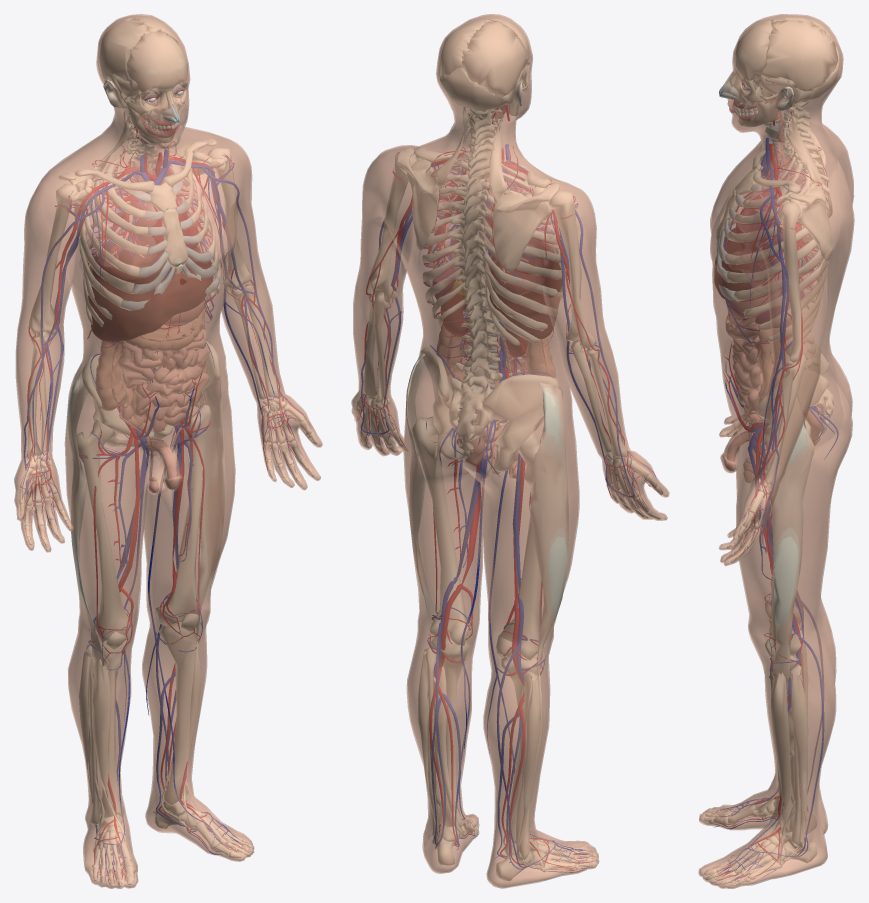
The model's file is m-body.glb.
The picture shows the model from 3 angles, left to right: view 1: azimuth 30°, elevation 25°; view 2: azimuth 150°, elevation 25°; view 3: azimuth 270°, elevation 25°; orthographic projection. The views are drawn at different scales.
Visible parts, largest first — view 1: skin, bone, organ, vein, artery, glass, heart; view 2: skin, bone, vein, artery, organ, glass; view 3: skin, bone, organ, vein, artery, glass, heart.
Part boxes in pixels (x1=…): skin: x1=14, y1=14, x2=322, y2=888; bone: x1=19, y1=17, x2=316, y2=886; organ: x1=88, y1=79, x2=212, y2=492; vein: x1=22, y1=150, x2=310, y2=882; artery: x1=23, y1=126, x2=308, y2=881; glass: x1=80, y1=149, x2=221, y2=413; heart: x1=135, y1=203, x2=197, y2=250; skin: x1=351, y1=14, x2=669, y2=888; bone: x1=357, y1=18, x2=662, y2=880; vein: x1=360, y1=144, x2=655, y2=872; artery: x1=359, y1=106, x2=650, y2=870; organ: x1=427, y1=81, x2=561, y2=478; glass: x1=418, y1=150, x2=558, y2=386; skin: x1=698, y1=14, x2=854, y2=888; bone: x1=704, y1=17, x2=839, y2=885; organ: x1=714, y1=78, x2=823, y2=482; vein: x1=714, y1=138, x2=838, y2=884; artery: x1=715, y1=83, x2=831, y2=878; glass: x1=728, y1=151, x2=819, y2=391; heart: x1=736, y1=207, x2=782, y2=253.
Size of the model in its own units: 0.6668 by 1.72 by 0.2919.
